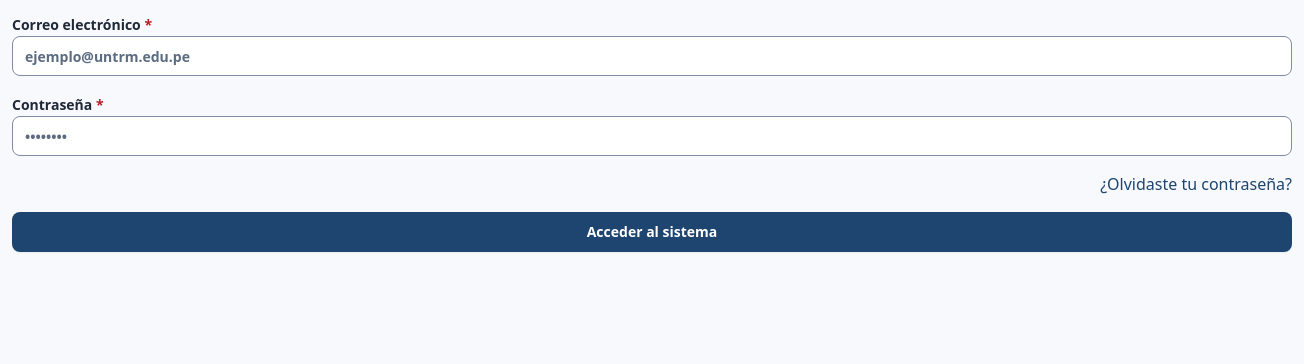
Scenario: LoginForm component › shows safe fallback message on network error without leaking internal details
The image size is (1304, 364).
Type "usuario@untrm.edu.pe" into the field labelled "Correo electrónico *".
click(652, 56); type("usuario@untrm.edu.pe")  # box [12, 36, 1292, 76]
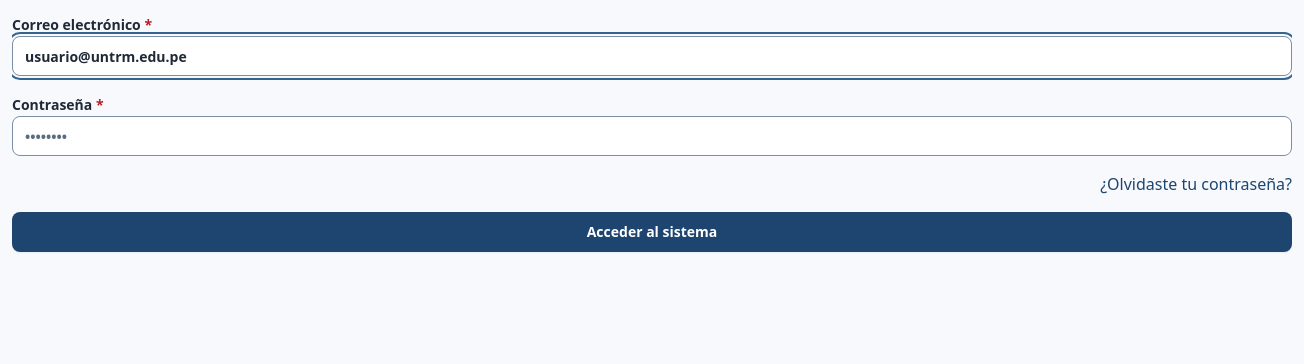
Type "ClaveValida123" into the password field labelled "Contraseña *".
click(652, 136); type("ClaveValida123")  # box [12, 116, 1292, 156]
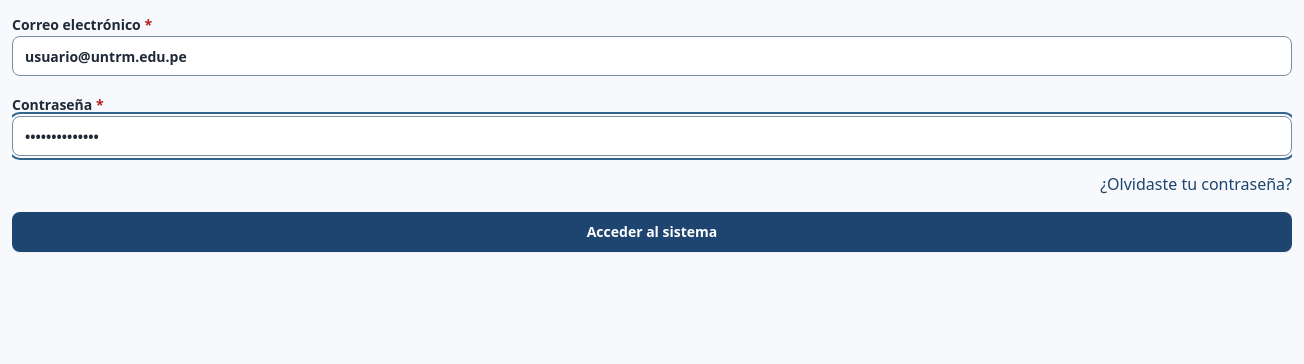
Click the button "Acceder al sistema".
click(652, 232)  # box [12, 212, 1292, 252]
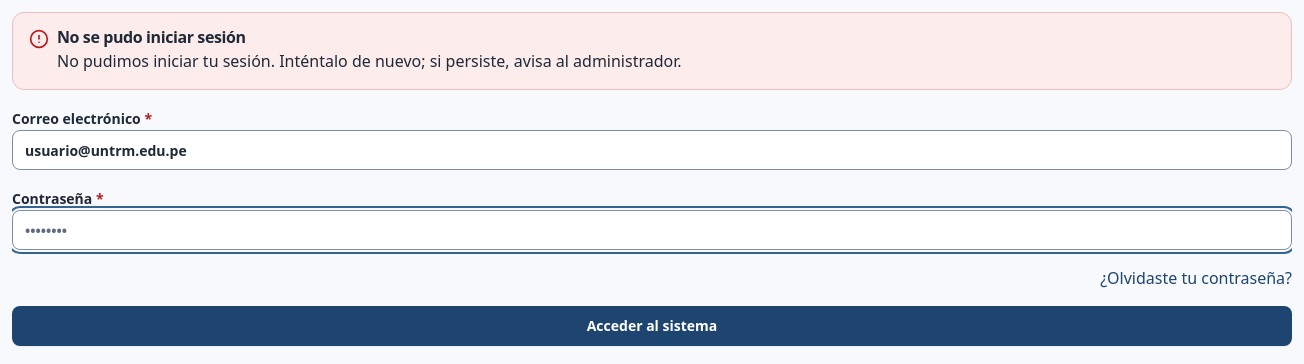
Result: the message shows "no pudimos iniciar tu sesión. inténtalo de nuevo; si persiste, avisa al administrador." at [57, 50, 682, 72]
